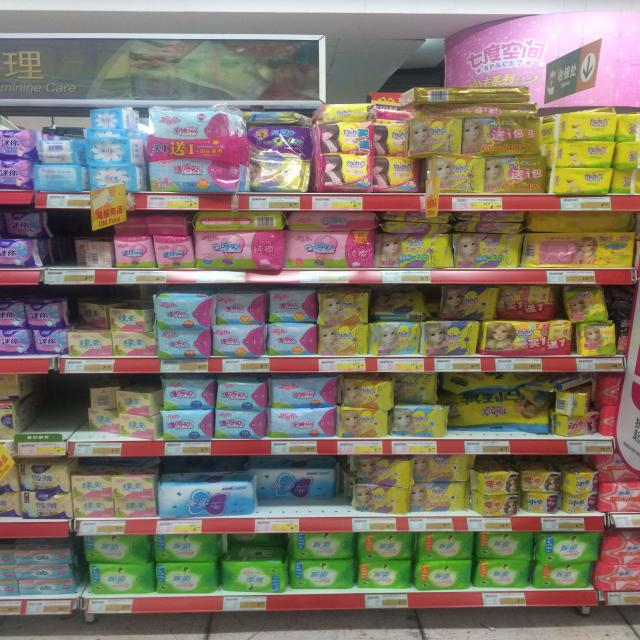empty: (14, 373, 102, 437)
